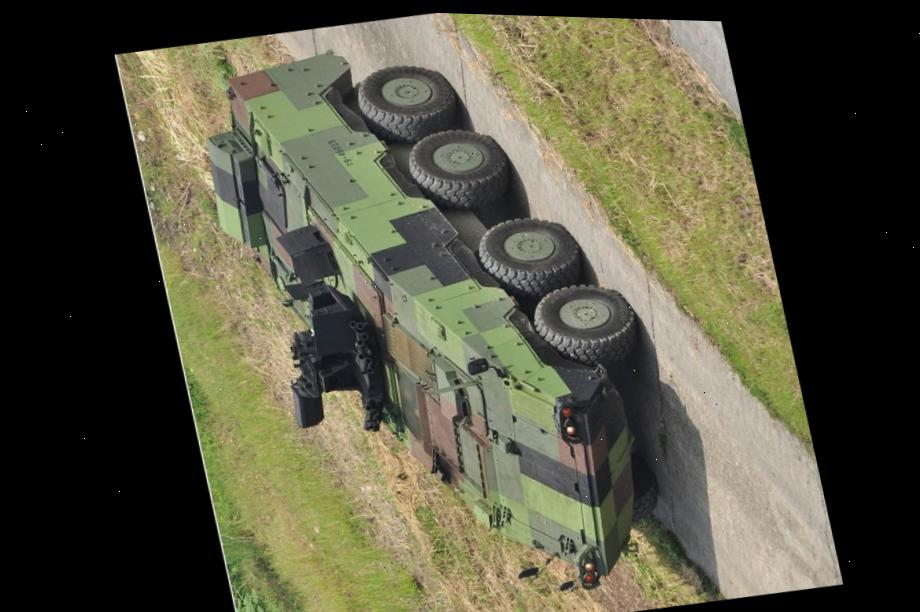armored_car: (171, 5, 698, 612)
